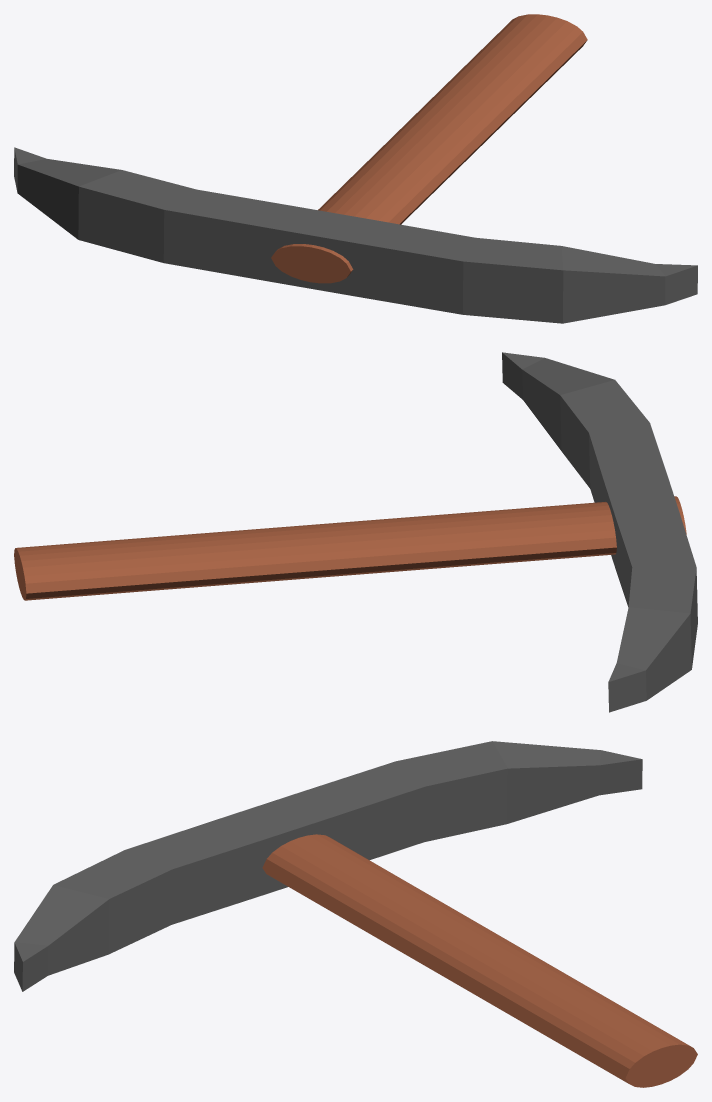
File: stone_pickaxe.fbx
The picture shows the model from 3 angles, top to bottom: view 1: azimuth 30°, elevation 25°; view 2: azimuth 150°, elevation 25°; view 3: azimuth 270°, elevation 25°; orthographic projection. The views are drawn at different scales.
Parts seen in each view (by area): view 1: Stone Pickaxe; view 2: Stone Pickaxe; view 3: Stone Pickaxe.
Boxes of the visible parts, x1,y1,x2,y2 form: Stone Pickaxe: [14, 14, 697, 323]; Stone Pickaxe: [14, 352, 697, 712]; Stone Pickaxe: [14, 741, 697, 1087].
Size of the model in its own units: 70.6 by 6.54 by 67.75.
